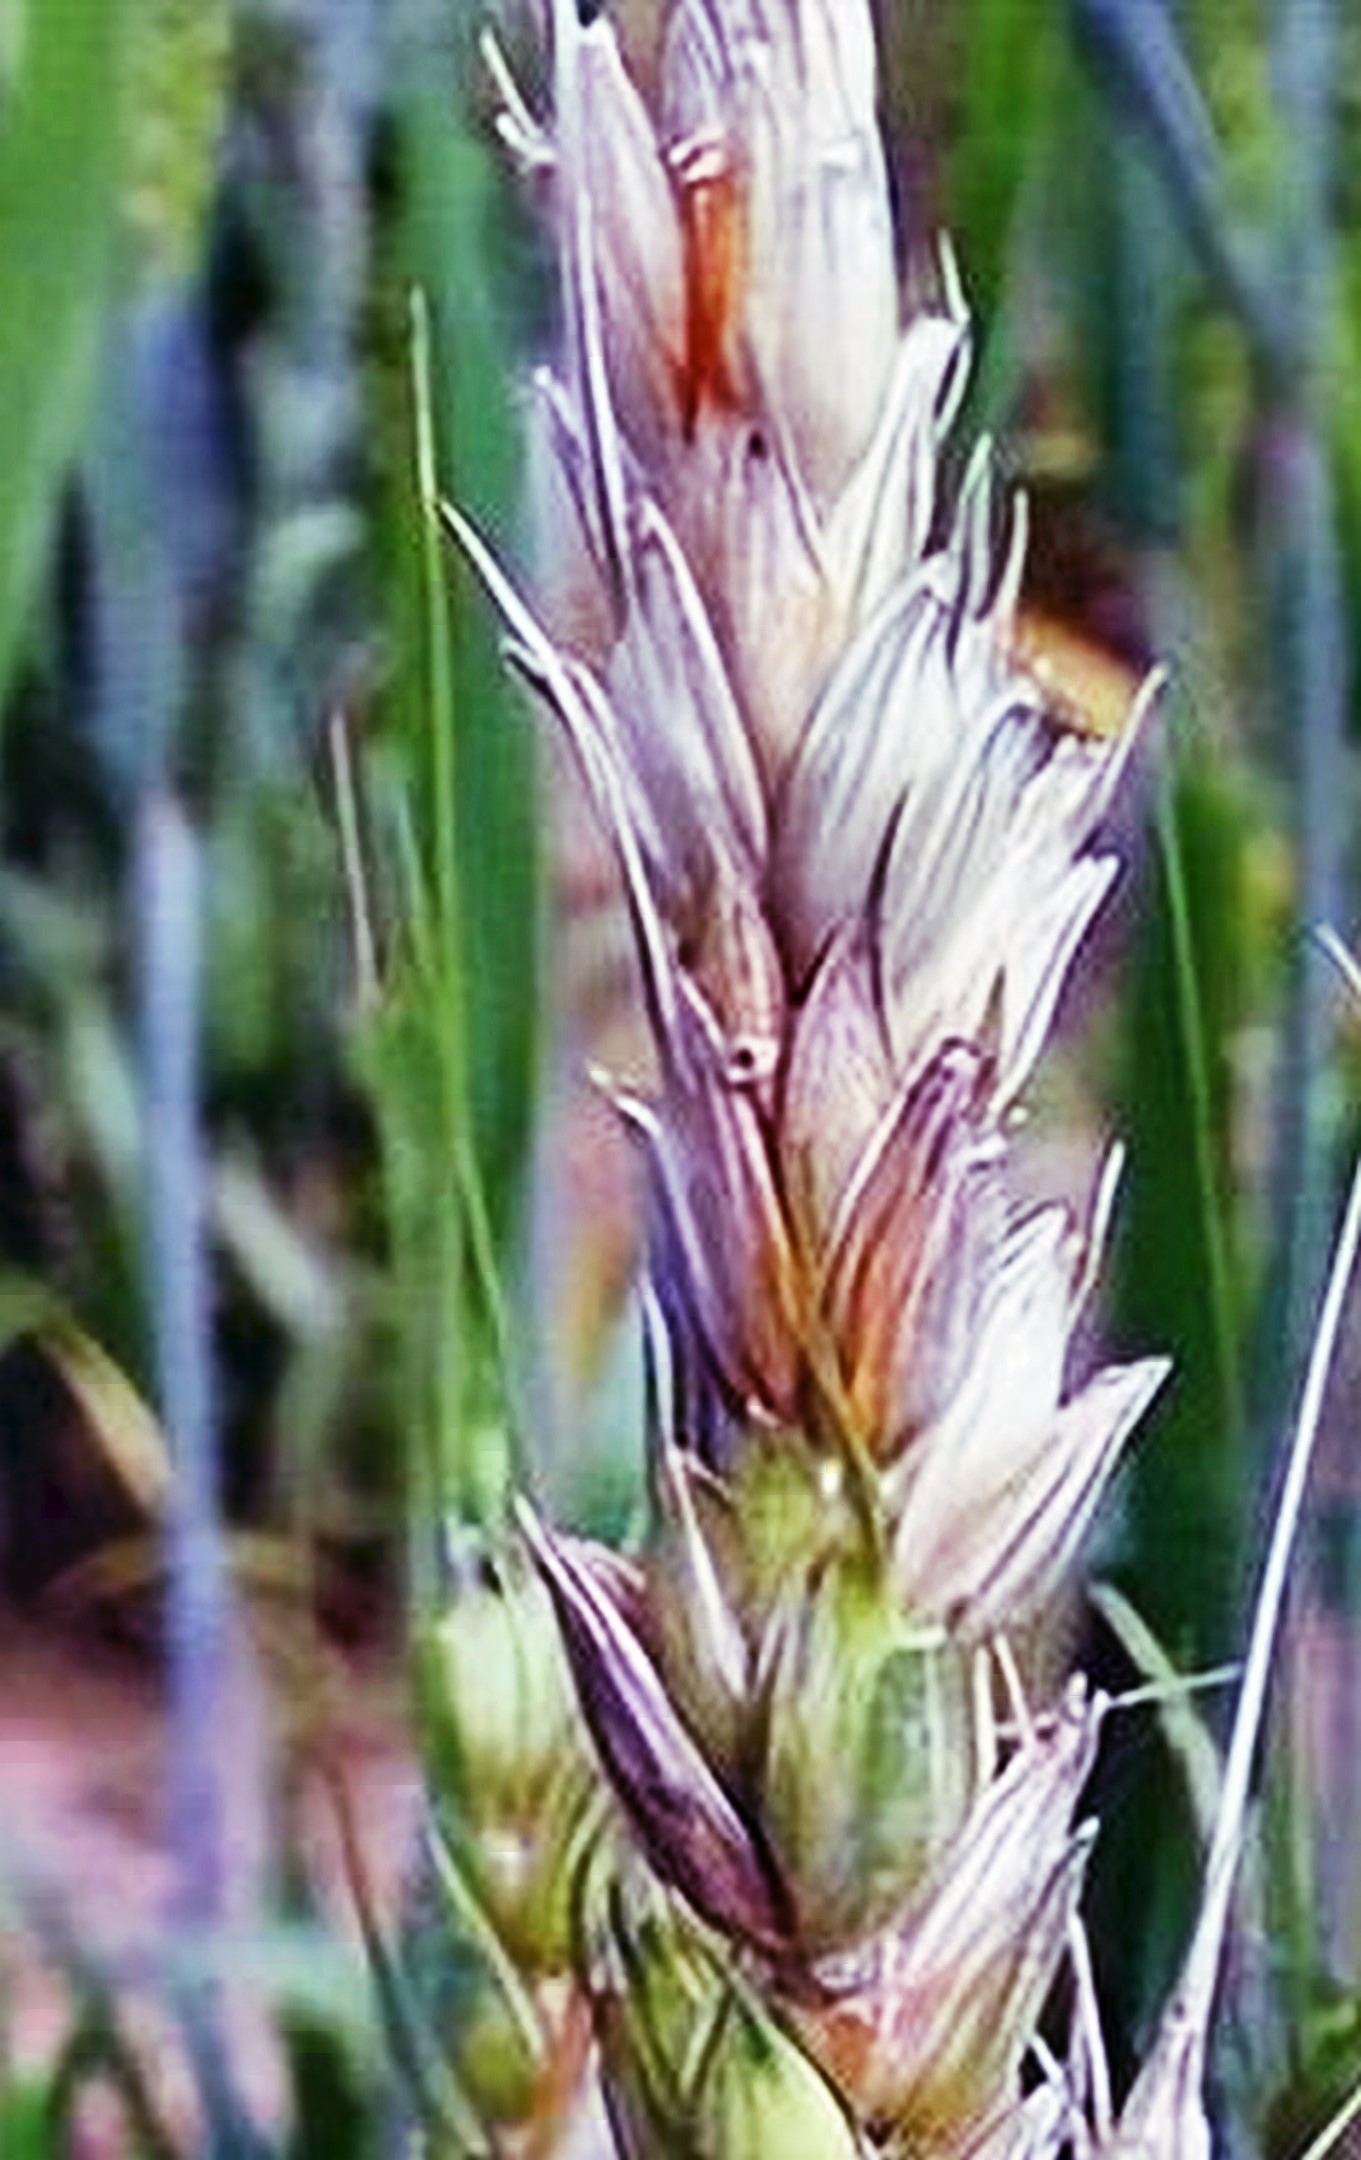Wheat scab: (481, 8, 1104, 2094)
